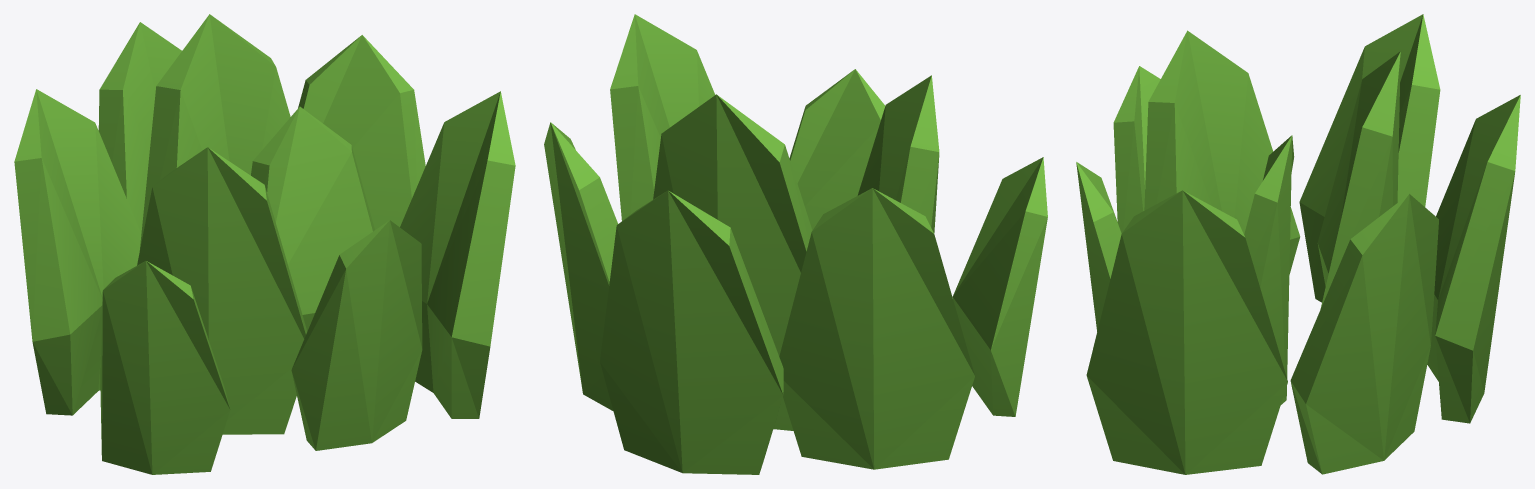
The model's file is plant_grass_2.glb.
The picture shows the model from 3 angles, left to right: view 1: azimuth 30°, elevation 25°; view 2: azimuth 150°, elevation 25°; view 3: azimuth 270°, elevation 25°; orthographic projection. The views are drawn at different scales.
Parts seen in each view (by area): view 1: plant_grass_2; view 2: plant_grass_2; view 3: plant_grass_2.
Part boxes in pixels (x1,y1,x2,y2): plant_grass_2: (14,14,515,474); plant_grass_2: (544,14,1047,474); plant_grass_2: (1076,14,1520,474).
Bounding box in the file's own units: 0.747 × 0.6 × 0.6978.
